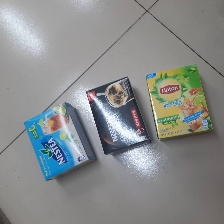CF Viet: (85, 75, 150, 155)
LipTon: (145, 62, 213, 140)
Nestea: (22, 99, 95, 182)
